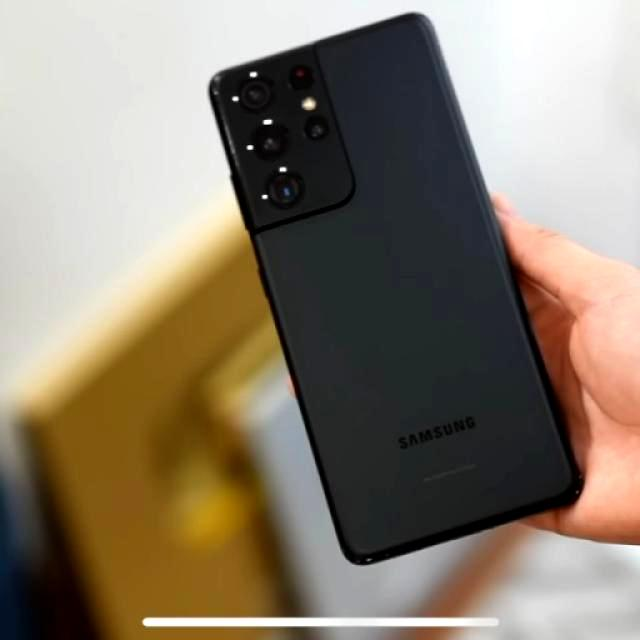lens_back: (243, 119, 294, 161), (263, 167, 308, 210), (236, 77, 273, 111)
phone: (211, 13, 585, 568)
